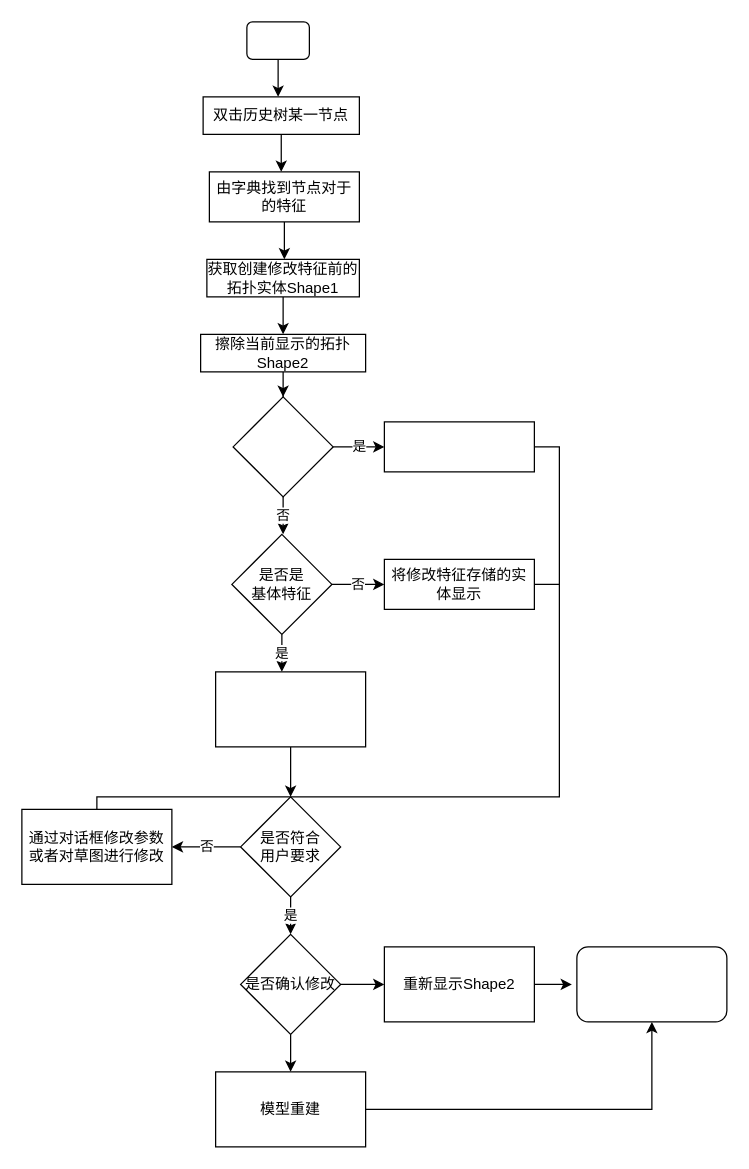
This 749x1169 diagram has some shape labels left out. Each missing label, with the box of its shape:
将Shape1在场景中显示: (383, 421, 534, 472)
将修改特征存储的实体Shape3与Shape1布尔操作后显示: (214, 671, 366, 747)
开始: (246, 21, 309, 59)
是否是 基准特征: (232, 396, 333, 497)
结束: (576, 946, 727, 1022)
